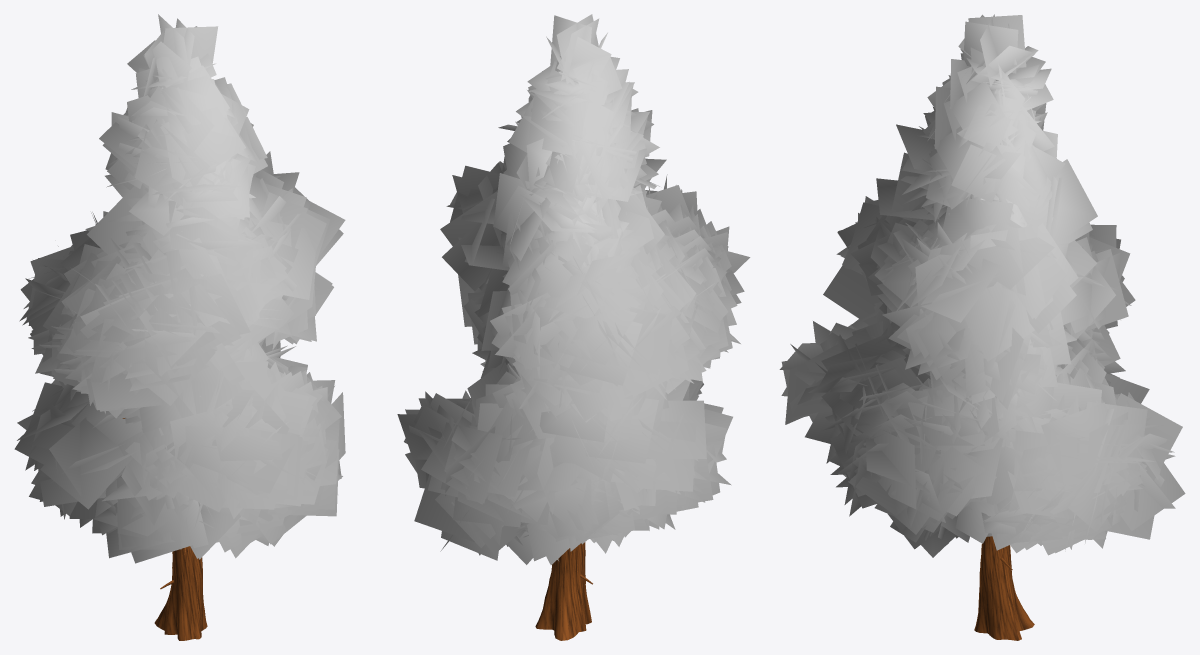
The model's file is SM_Tree_Campsite_03.fbx.
3 renders of one model, left to right at view 1: azimuth 30°, elevation 25°; view 2: azimuth 150°, elevation 25°; view 3: azimuth 270°, elevation 25°, orthographic.
Parts seen in each view (by area): view 1: Tree_Campsite_03_LOD0; view 2: Tree_Campsite_03_LOD0; view 3: Tree_Campsite_03_LOD0.
Part boxes in pixels (<box>): Tree_Campsite_03_LOD0: <box>14,14,345,640</box>; Tree_Campsite_03_LOD0: <box>397,14,750,640</box>; Tree_Campsite_03_LOD0: <box>779,14,1185,640</box>.
Size of what is drawn, in the model's own units: 14.53 by 28.86 by 17.49.
